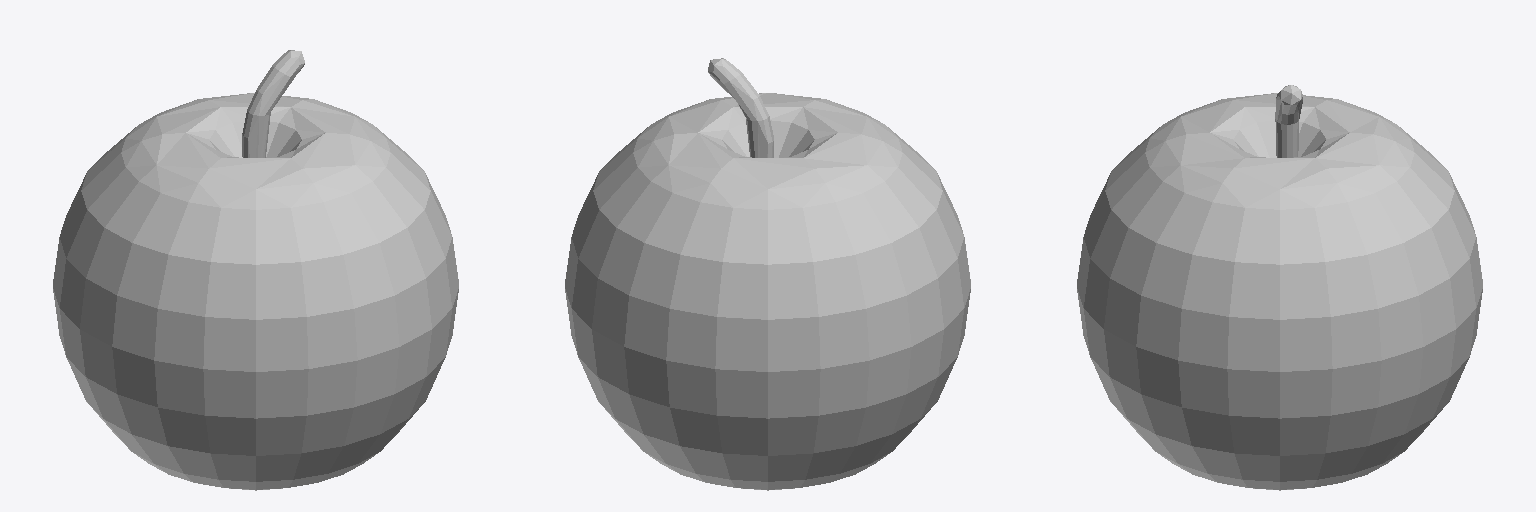
File: powerup.obj
3 views of the same model, side by side, from view 1: azimuth 30°, elevation 25°; view 2: azimuth 150°, elevation 25°; view 3: azimuth 270°, elevation 25° (orthographic).
Visible parts, largest first — view 1: Cube_Cube.001; view 2: Cube_Cube.001; view 3: Cube_Cube.001.
Part boxes in pixels (left/top/right/bottom): Cube_Cube.001: left=53, top=50, right=458, bottom=490; Cube_Cube.001: left=565, top=58, right=970, bottom=490; Cube_Cube.001: left=1077, top=85, right=1482, bottom=490.
Size of the model in its own units: 1.92 by 1.99 by 1.92.